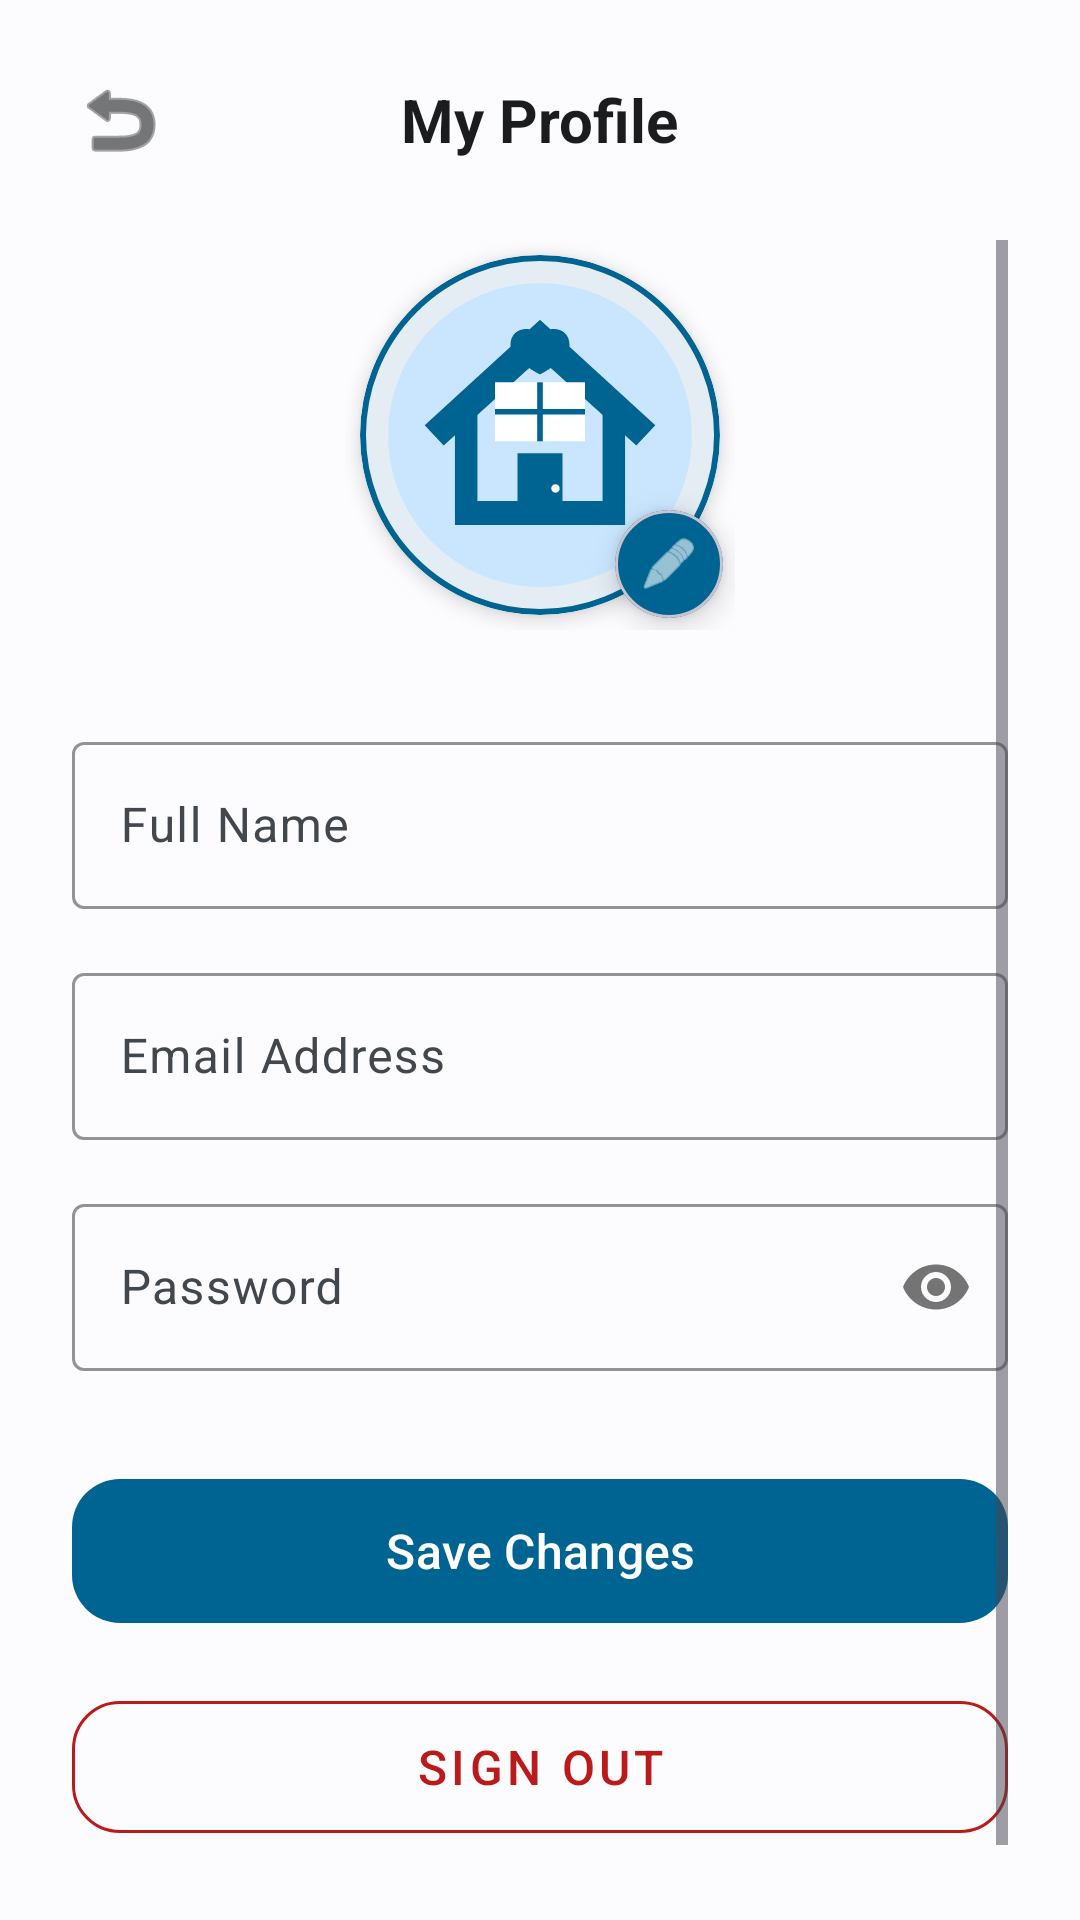

Icon click points for this 1080w x 1920h phone screenshot, format (x,y):
edit: (668,563)
revert: (121,120)
